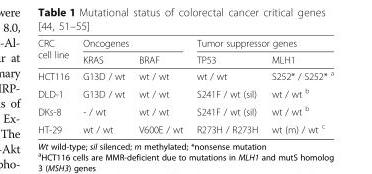table: (37, 37, 333, 134)
table column: (189, 37, 264, 134), (264, 37, 333, 134), (131, 37, 189, 134), (75, 37, 131, 134), (37, 37, 75, 134)
table column header: (37, 37, 333, 66)
table row: (37, 83, 333, 101), (37, 101, 333, 119), (37, 66, 333, 83), (37, 50, 333, 66), (37, 119, 333, 134), (37, 37, 333, 50)
table spanning cell: (189, 37, 333, 50), (75, 37, 189, 50), (37, 37, 75, 66)
